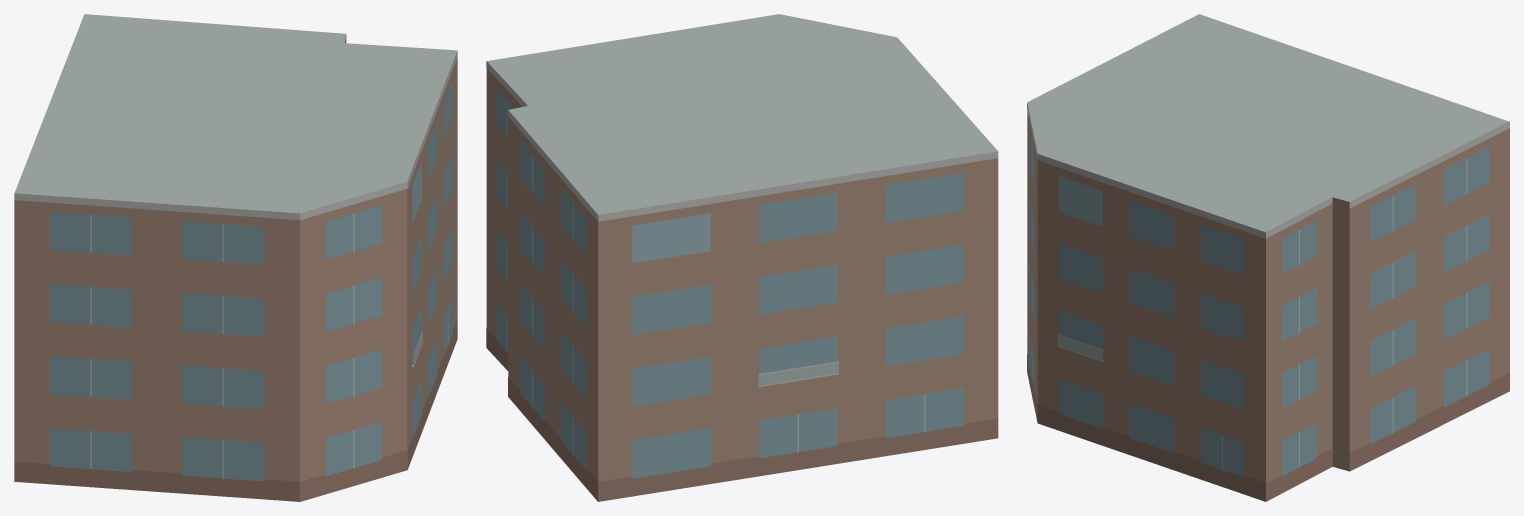
File: survey-upis-32854234.glb
3 views of the same model, side by side, from view 1: azimuth 30°, elevation 25°; view 2: azimuth 150°, elevation 25°; view 3: azimuth 270°, elevation 25° (orthographic). The views are drawn at different scales.
Parts seen in each view (by area): view 1: survey-upis-32854234.tmp; view 2: survey-upis-32854234.tmp; view 3: survey-upis-32854234.tmp.
Part boxes in pixels (bbox=[...]): survey-upis-32854234.tmp: bbox=[14, 14, 457, 501]; survey-upis-32854234.tmp: bbox=[486, 14, 998, 501]; survey-upis-32854234.tmp: bbox=[1027, 14, 1509, 501].
Size of the model in its own units: 17.9 by 10.3 by 16.73.
